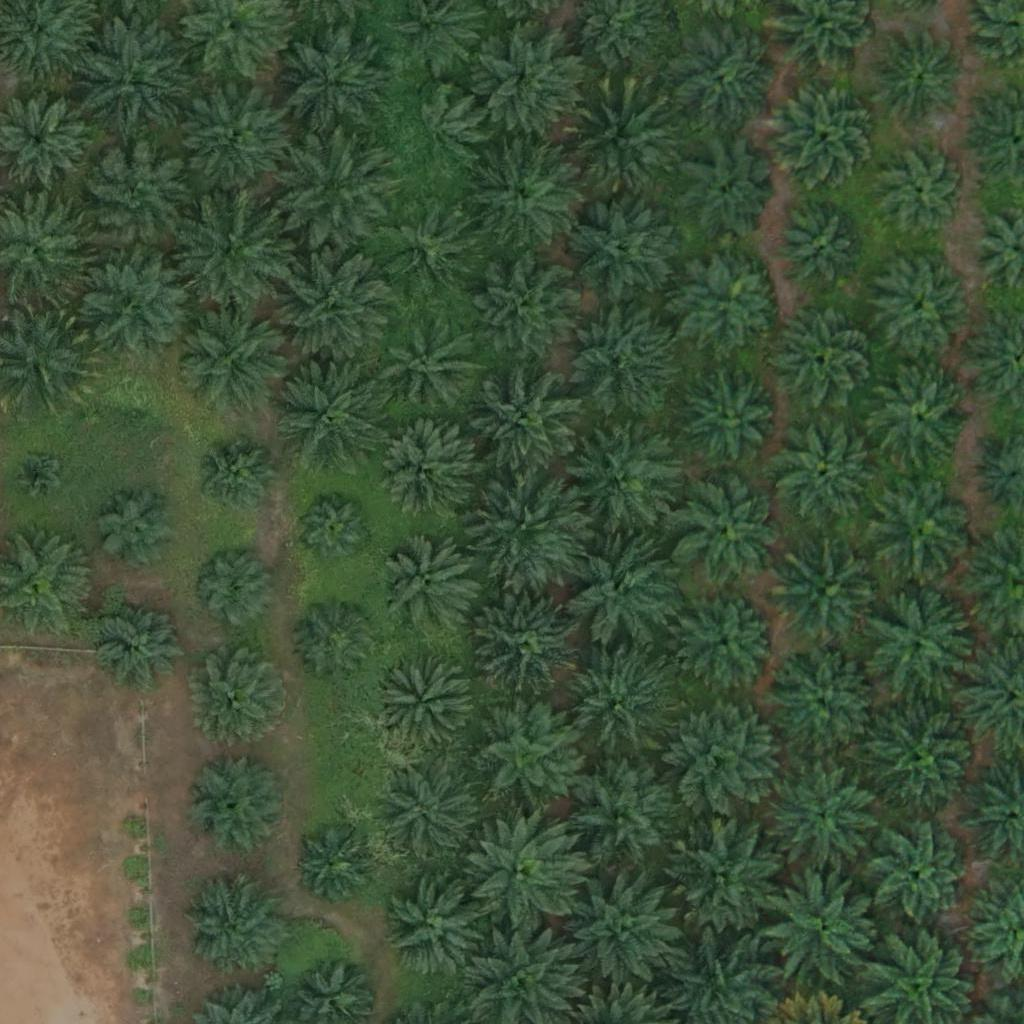Kelapa_Sawit: (273, 351, 386, 465), (176, 82, 289, 196), (173, 192, 286, 306), (76, 21, 189, 135), (769, 78, 882, 191), (568, 191, 681, 304), (564, 301, 677, 414), (473, 25, 586, 138), (464, 138, 577, 251), (470, 255, 583, 368), (178, 302, 291, 415), (80, 142, 193, 255), (472, 473, 585, 586), (473, 590, 586, 703), (569, 421, 682, 534), (566, 535, 679, 648), (560, 646, 673, 759), (568, 761, 681, 874), (668, 701, 781, 814), (671, 815, 784, 928), (861, 588, 974, 701), (470, 366, 582, 480), (277, 132, 389, 246), (279, 249, 391, 363), (565, 86, 677, 199), (275, 26, 387, 139), (85, 249, 197, 362), (468, 699, 580, 812), (467, 820, 579, 933), (570, 872, 682, 985), (673, 475, 785, 588), (768, 414, 880, 527), (775, 541, 887, 654), (768, 647, 880, 760), (768, 766, 880, 879), (765, 872, 877, 985), (868, 706, 980, 819), (869, 27, 969, 128), (870, 255, 970, 356), (870, 372, 970, 473), (774, 309, 874, 410), (670, 26, 770, 127), (679, 142, 779, 243), (680, 252, 780, 353), (677, 366, 777, 467), (181, 874, 281, 975), (373, 423, 473, 524), (379, 535, 479, 636), (374, 653, 474, 754), (679, 592, 779, 693), (869, 826, 969, 927), (377, 199, 477, 299), (381, 318, 481, 418), (191, 648, 291, 748), (186, 755, 286, 855), (384, 767, 484, 867), (386, 880, 486, 980), (871, 476, 971, 576), (778, 204, 866, 292), (394, 89, 482, 177), (100, 600, 188, 688), (878, 147, 965, 235), (94, 485, 181, 573), (193, 435, 280, 523), (190, 544, 277, 632), (292, 599, 379, 687), (297, 827, 372, 903), (295, 491, 370, 566), (12, 449, 62, 500), (109, 386, 159, 436)
